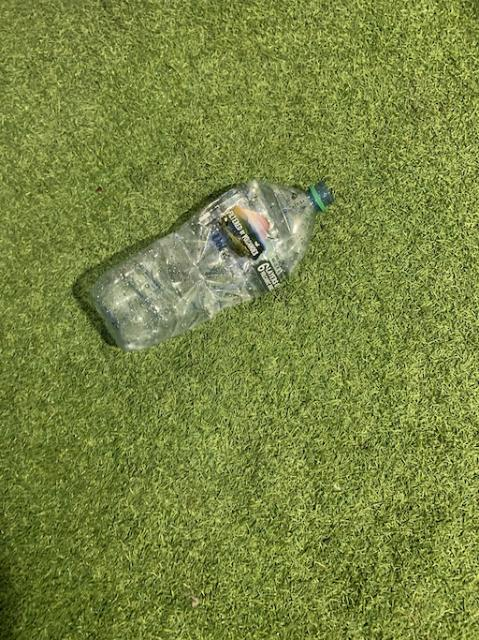plastic: (90, 179, 332, 349)
